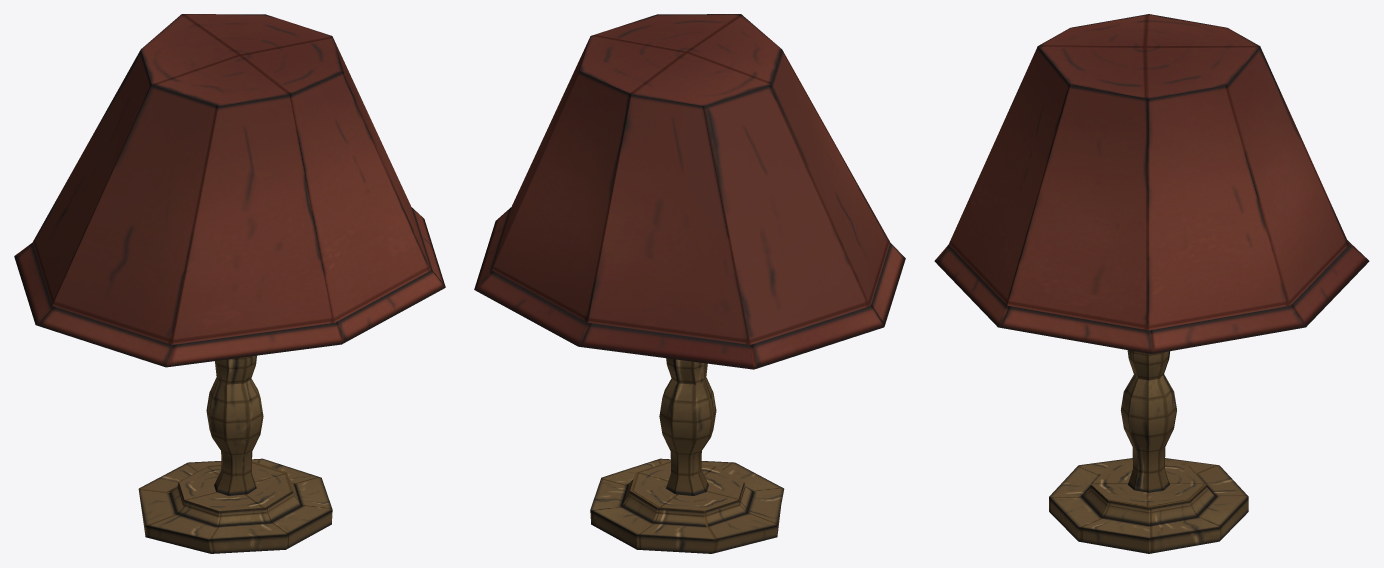
File: lamp.fbx
The picture shows the model from 3 angles, left to right: view 1: azimuth 30°, elevation 25°; view 2: azimuth 150°, elevation 25°; view 3: azimuth 270°, elevation 25°; orthographic projection.
Visible parts, largest first — view 1: Lamp; view 2: Lamp; view 3: Lamp.
Boxes of the visible parts, x1,y1,x2,y2 form: Lamp: (14, 14, 445, 553); Lamp: (474, 14, 905, 553); Lamp: (934, 14, 1369, 553).
Bounding box in the file's own units: 50.35 × 57.03 × 48.19.
